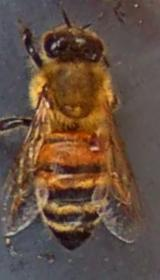varroa_mite: (76, 126, 117, 163)
